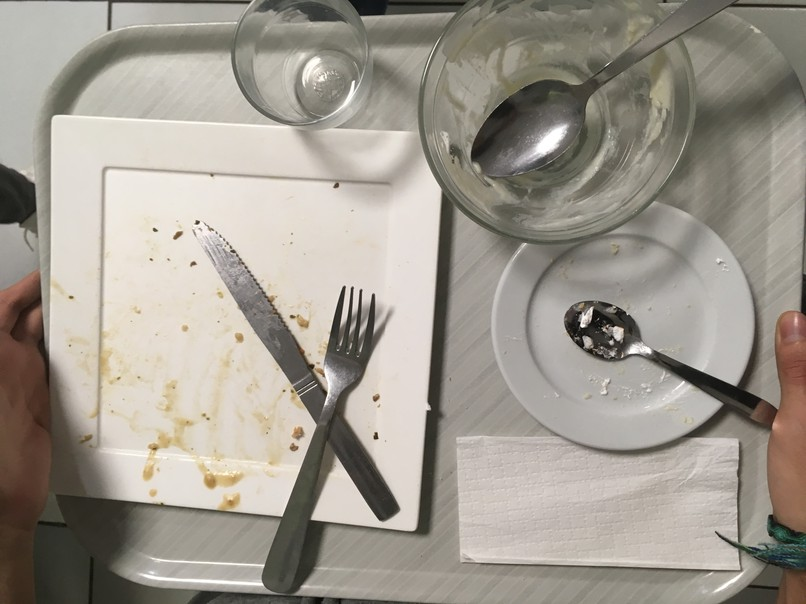cup: (217, 1, 382, 149)
cutlery: (181, 212, 400, 525), (469, 1, 727, 178), (264, 283, 380, 601), (562, 286, 799, 432)
trash: (452, 430, 746, 574)
